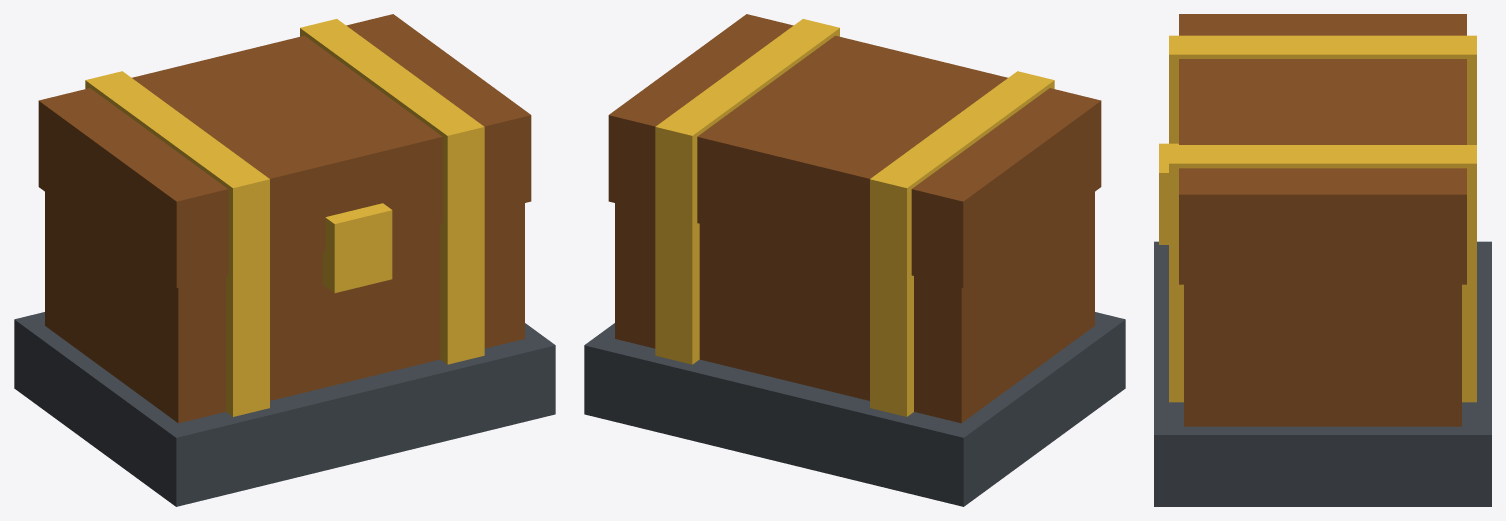
File: treasure_chest.glb
3 renders of one model, left to right at view 1: azimuth 30°, elevation 25°; view 2: azimuth 150°, elevation 25°; view 3: azimuth 270°, elevation 25°, orthographic. The views are drawn at different scales.
Visible parts, largest first — view 1: treasure_chest; view 2: treasure_chest; view 3: treasure_chest.
Boxes of the visible parts, box(x1,y1,x2,y2) form: treasure_chest: box(14, 14, 555, 506); treasure_chest: box(584, 14, 1125, 506); treasure_chest: box(1154, 14, 1491, 506).
Bounding box in the file's own units: 0.92 × 0.69 × 0.68.
